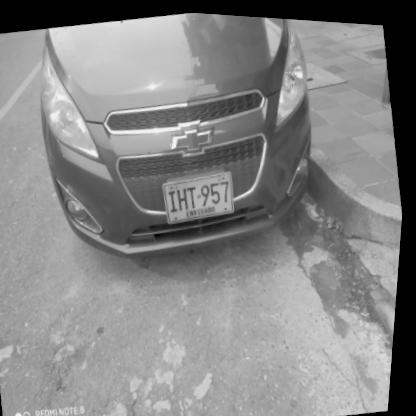placa: (157, 160, 245, 227)
